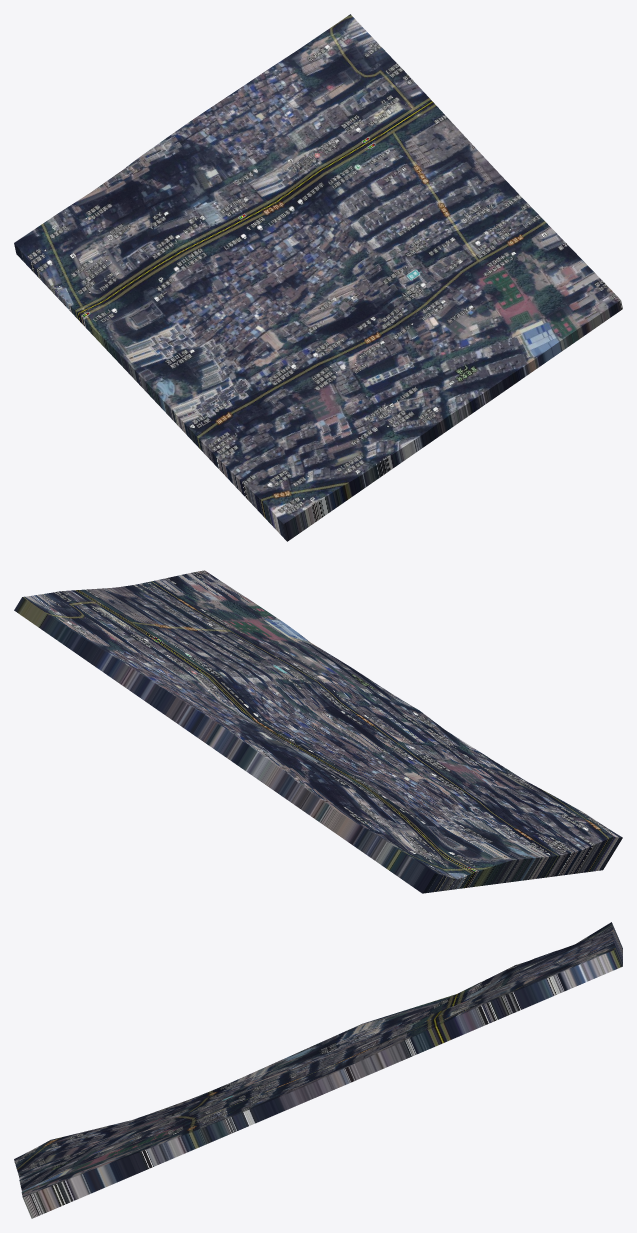
3 views of the same model, one above another, from view 1: azimuth 30°, elevation 25°; view 2: azimuth 150°, elevation 25°; view 3: azimuth 270°, elevation 25° (orthographic). The views are drawn at different scales.
Parts seen in each view (by area): view 1: 0_9_8; view 2: 0_9_8; view 3: 0_9_8.
Part boxes in pixels (<box>): 0_9_8: <box>14,14,622,541</box>; 0_9_8: <box>14,570,622,893</box>; 0_9_8: <box>14,922,622,1218</box>.
Bounding box in the file's own units: 602 × 442 × 558.
Materials: 1 (1 with a texture image).
